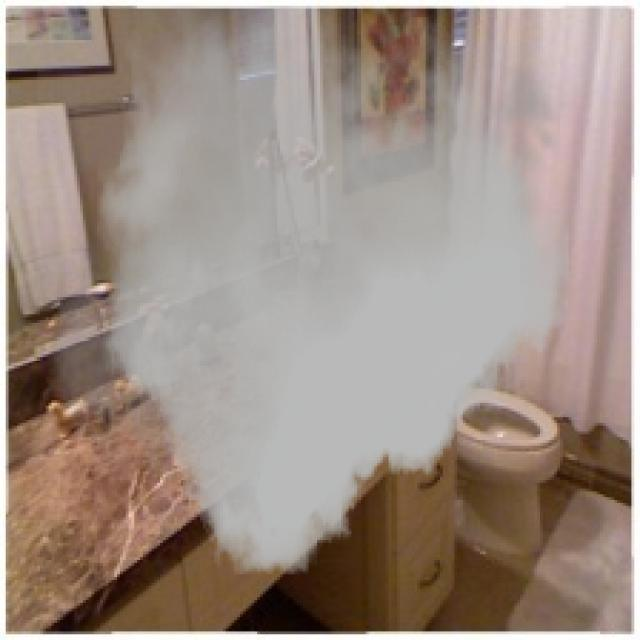Smoke: (37, 6, 577, 574)
